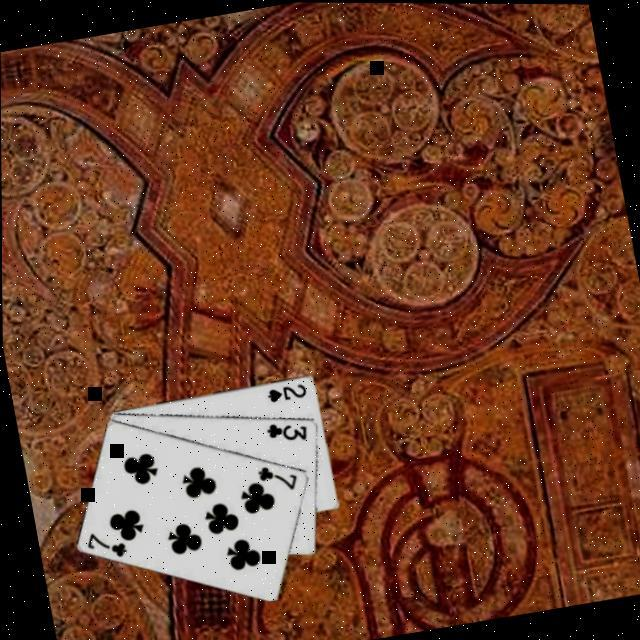2S: (261, 378, 308, 404)
3C: (261, 414, 310, 447)
7C: (80, 523, 129, 563), (252, 456, 300, 496)
